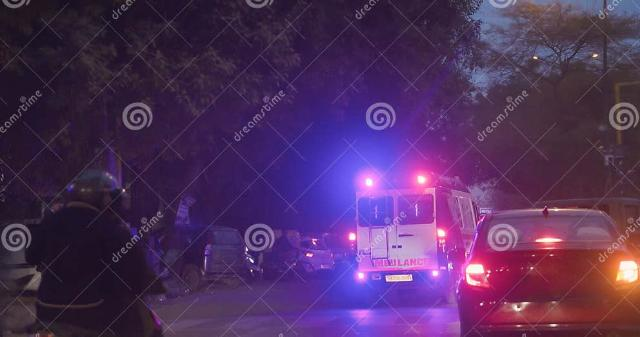ambulance: (342, 165, 482, 305)
